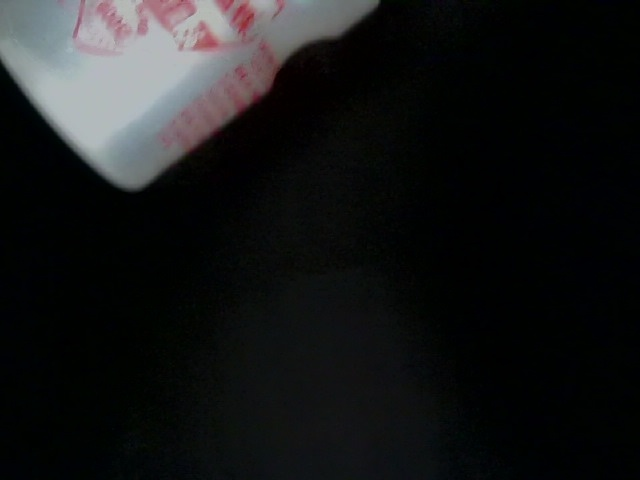CYLJ: (206, 126, 313, 236)
